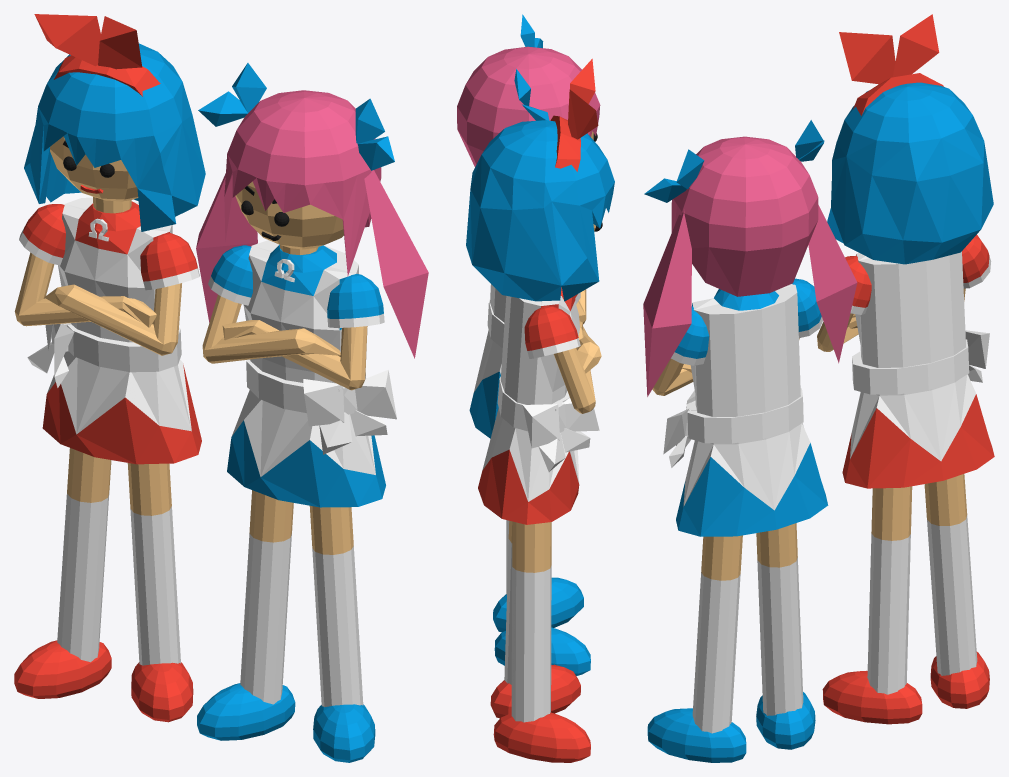
The model's file is omega_sisters.glb.
The picture shows the model from 3 angles, left to right: view 1: azimuth 30°, elevation 25°; view 2: azimuth 150°, elevation 25°; view 3: azimuth 270°, elevation 25°; orthographic projection. The views are drawn at different scales.
Parts seen in each view (by area): view 1: group2123690012, group1343019964, group1839135383, group1065443606, group439298394, group1940124744, group179375568, group1787468390, group338085117, group2117366881, group808137683, group1848444669 (+32 smaller); view 2: group1839135383, group2123690012, group1065443606, group1940124744, group808137683, group1343019964, group822045076, group557188769, group795322018, group2117366881, group311322004, group1050663667 (+12 smaller); view 3: group1839135383, group1343019964, group2123690012, group1065443606, group179375568, group1940124744, group1787468390, group439298394, group338085117, group1844562703, group557188769, group795322018 (+17 smaller).
Part boxes in pixels (x1,y1,x2,y2): group2123690012: (42, 197, 201, 464); group1343019964: (227, 240, 385, 507); group1839135383: (24, 43, 205, 231); group1065443606: (224, 90, 381, 276); group439298394: (240, 490, 293, 704); group1940124744: (57, 448, 111, 662); group179375568: (127, 463, 180, 665); group1787468390: (309, 505, 363, 707); group338085117: (364, 170, 428, 358); group2117366881: (197, 683, 295, 740); group808137683: (14, 640, 111, 698); group1848444669: (235, 181, 343, 249); group1839135383: (466, 120, 614, 301); group2123690012: (478, 295, 579, 524); group1065443606: (457, 46, 600, 166); group1940124744: (511, 521, 551, 722); group808137683: (493, 712, 590, 762); group1343019964: (469, 284, 506, 438); group822045076: (524, 306, 580, 358); group557188769: (490, 664, 580, 718); group795322018: (493, 577, 583, 632); group2117366881: (494, 627, 590, 675); group311322004: (553, 348, 595, 408); group1050663667: (523, 404, 559, 448); group1839135383: (827, 82, 993, 264); group1343019964: (676, 284, 828, 536); group2123690012: (842, 251, 994, 488); group1065443606: (671, 136, 818, 296); group179375568: (867, 486, 912, 694); group1940124744: (924, 474, 977, 675); group1787468390: (692, 535, 742, 733); group439298394: (756, 523, 803, 715); group338085117: (643, 210, 691, 396); group1844562703: (808, 205, 857, 363); group557188769: (822, 670, 922, 724); group795322018: (647, 708, 746, 762).
Bounding box in the file's own units: 0.3808 × 1 × 0.4795.
